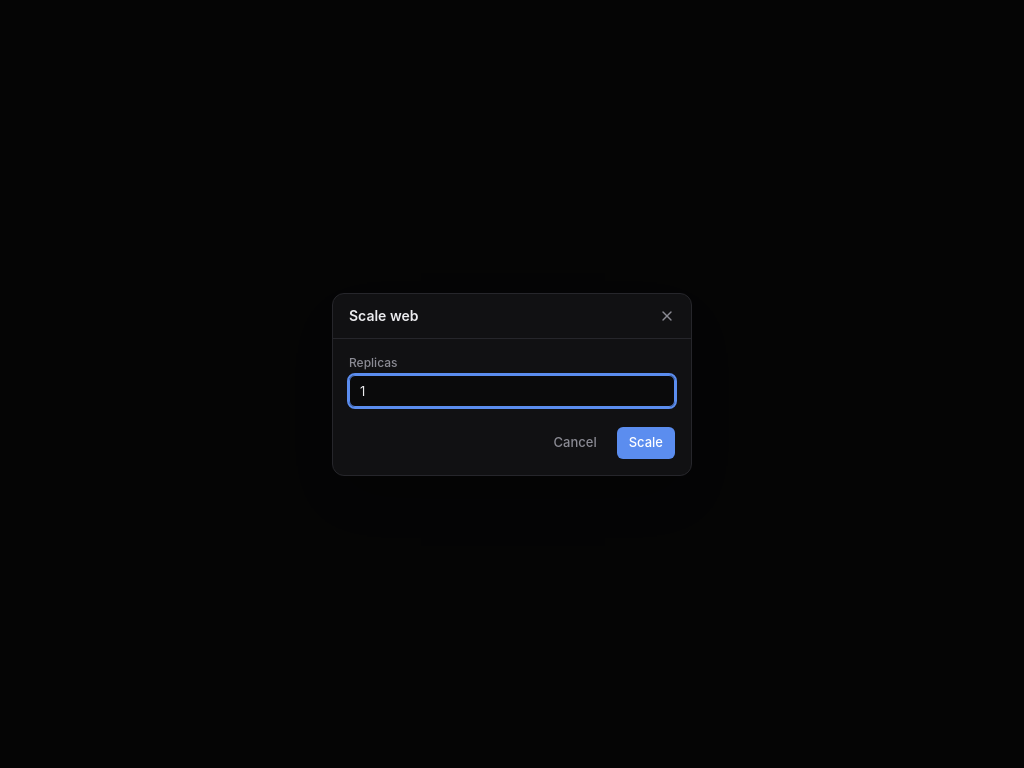
Test: ScaleDialog › rejects non-numbers and warns that 0 stops everything
Step 1. Replace the text in the field labelled "Replicas" with "-2" → (512, 390), box x1=349 y1=374 x2=675 y2=406
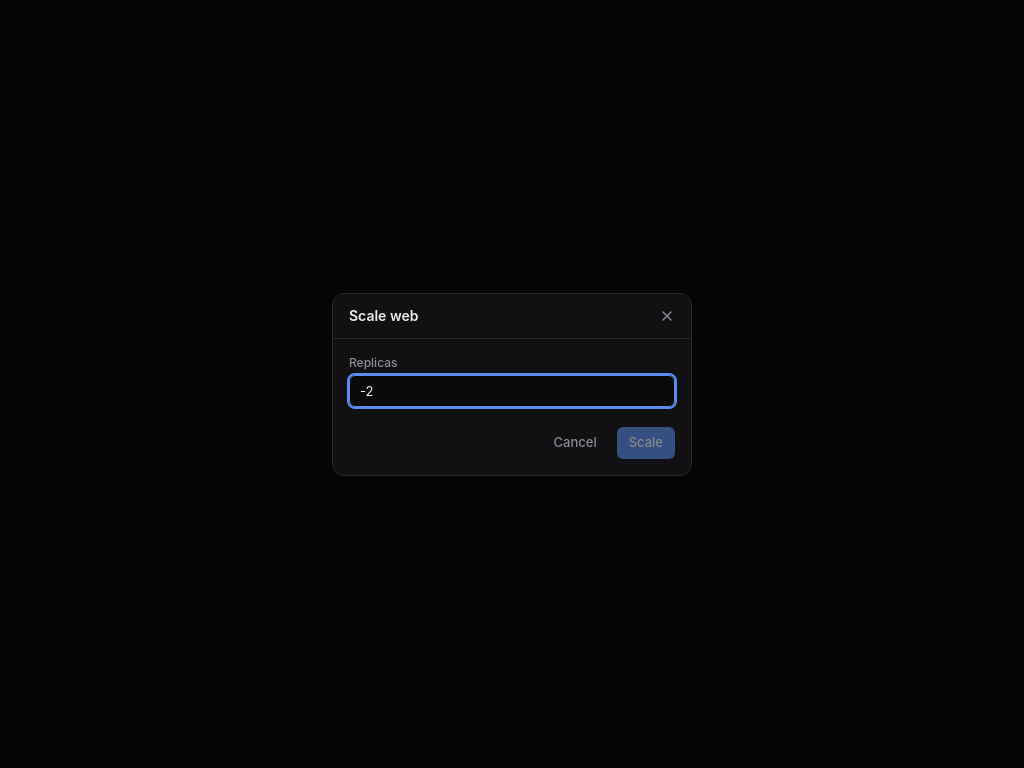
Expected: the button "Scale" is disabled, x1=617 y1=426 x2=675 y2=458
Step 2. Replace the text in the field labelled "Replicas" with "0" → (512, 390), box x1=349 y1=374 x2=675 y2=406
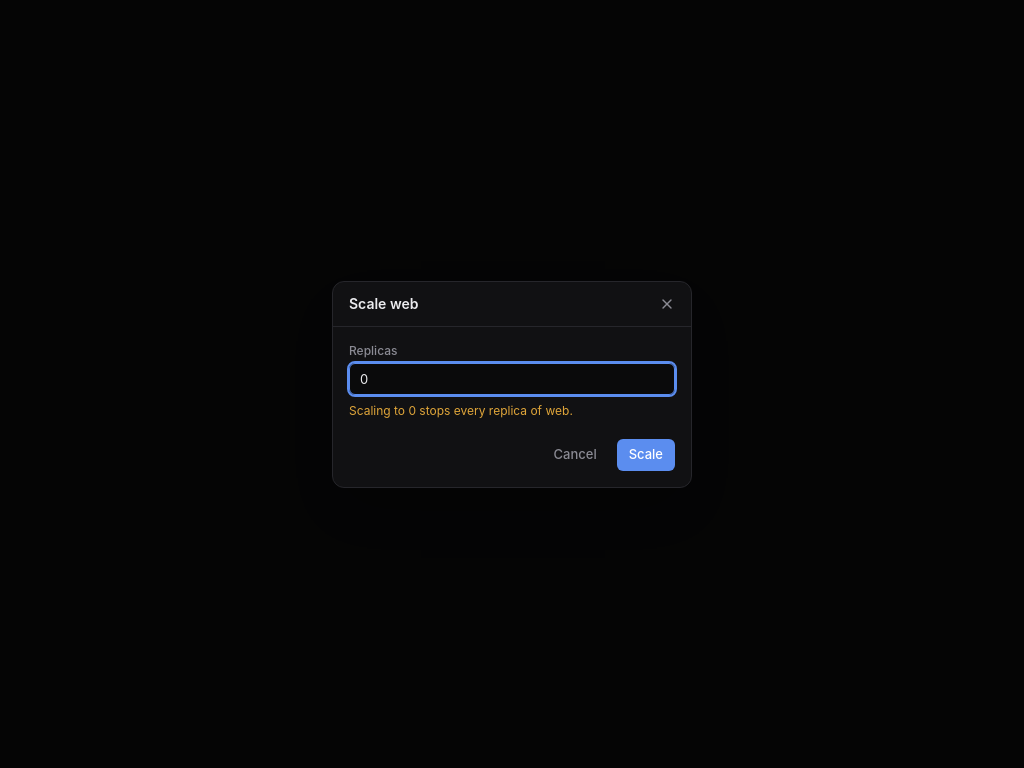
Expected: the text "Scaling to 0 stops every replica of web." is shown, x1=349 y1=402 x2=573 y2=418
